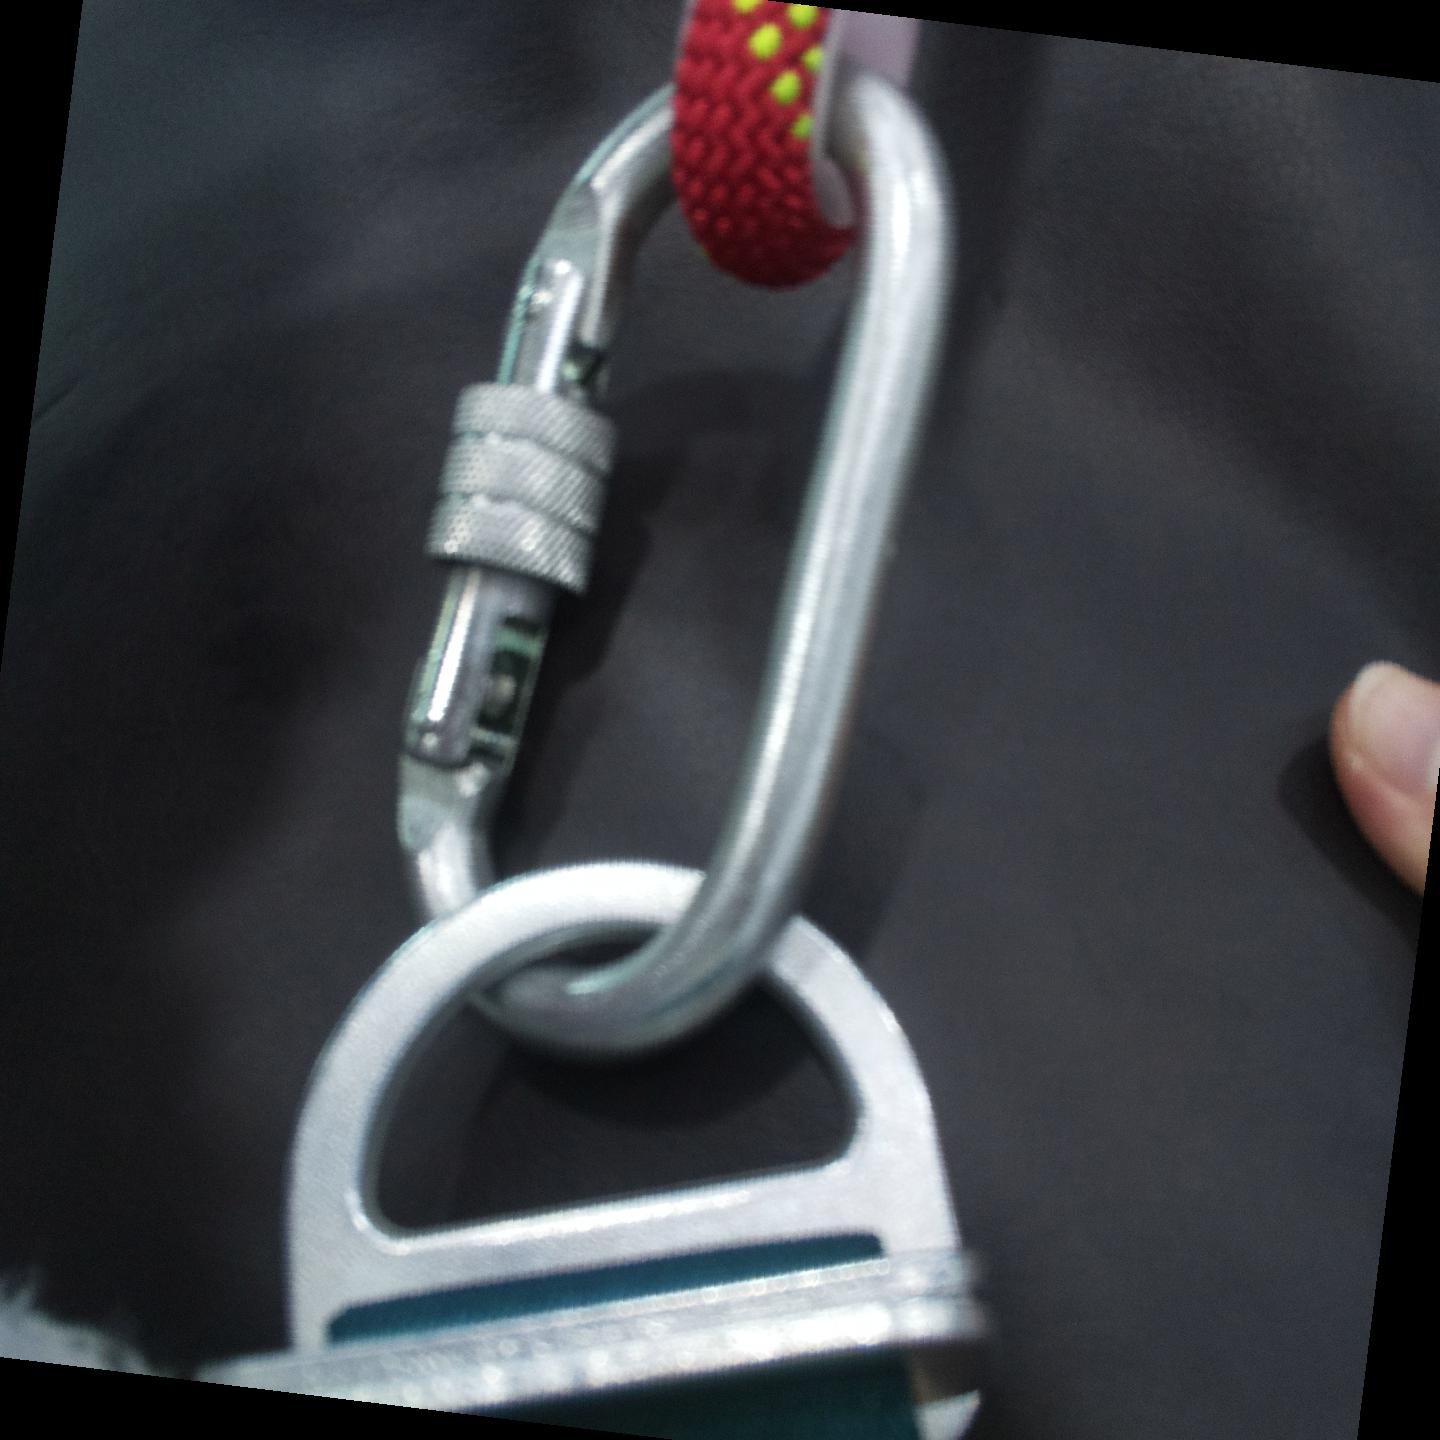SUCCESS: (305, 396, 978, 1360)
